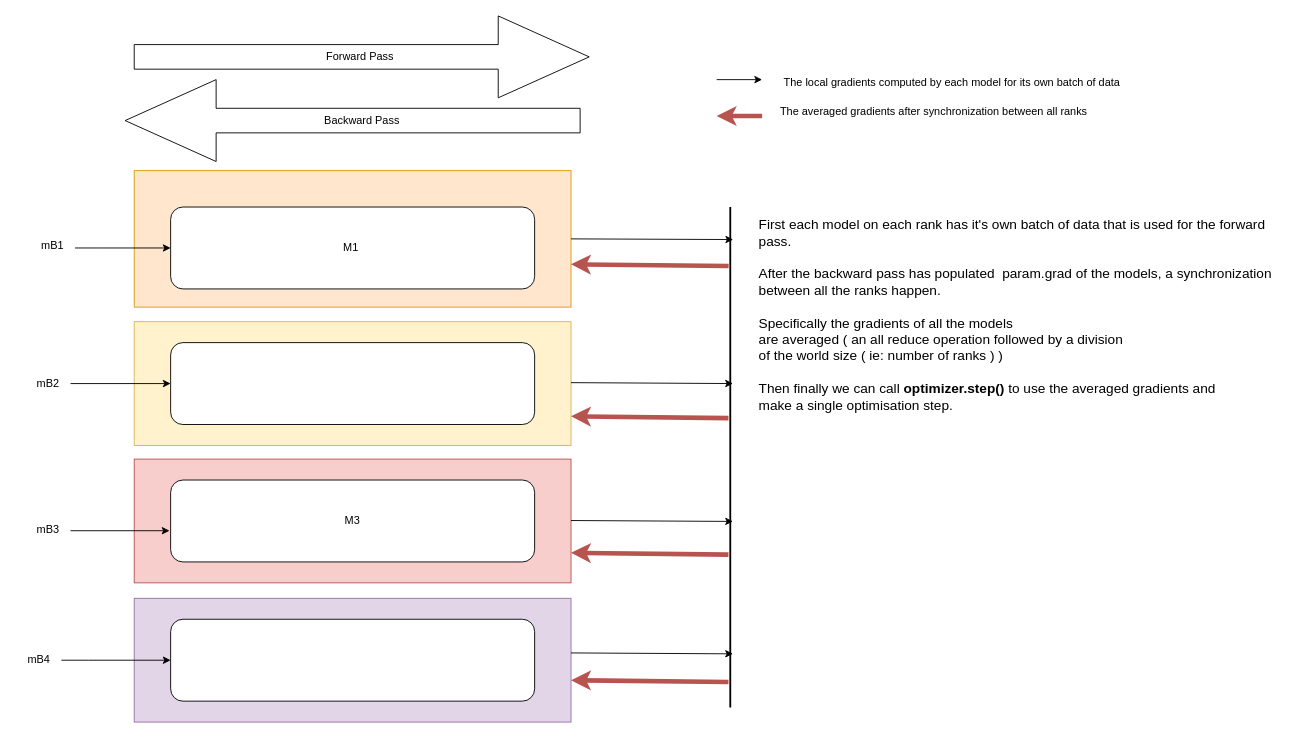
Some shapes in this 1300 by 738 pixel diagram are drawn without their labels. The centre of each missing label's shape, as x and y in pixels:
M2: the point at 352,383
M4: the point at 352,659
